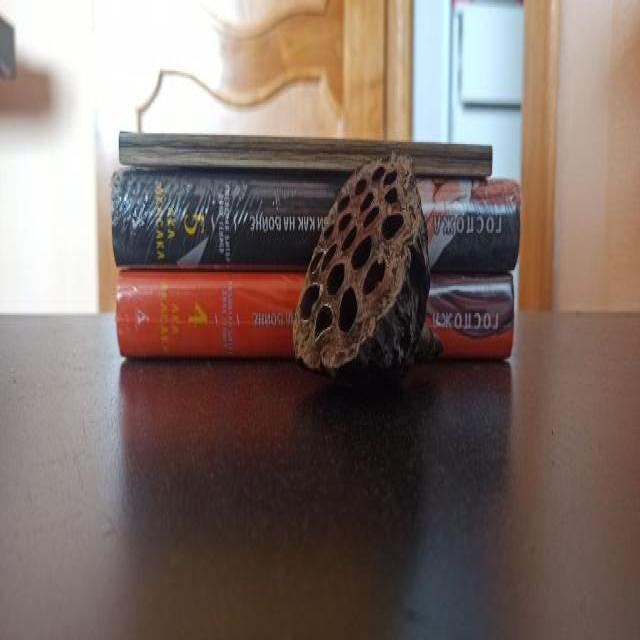book: (114, 178, 519, 270), (117, 275, 514, 361)
